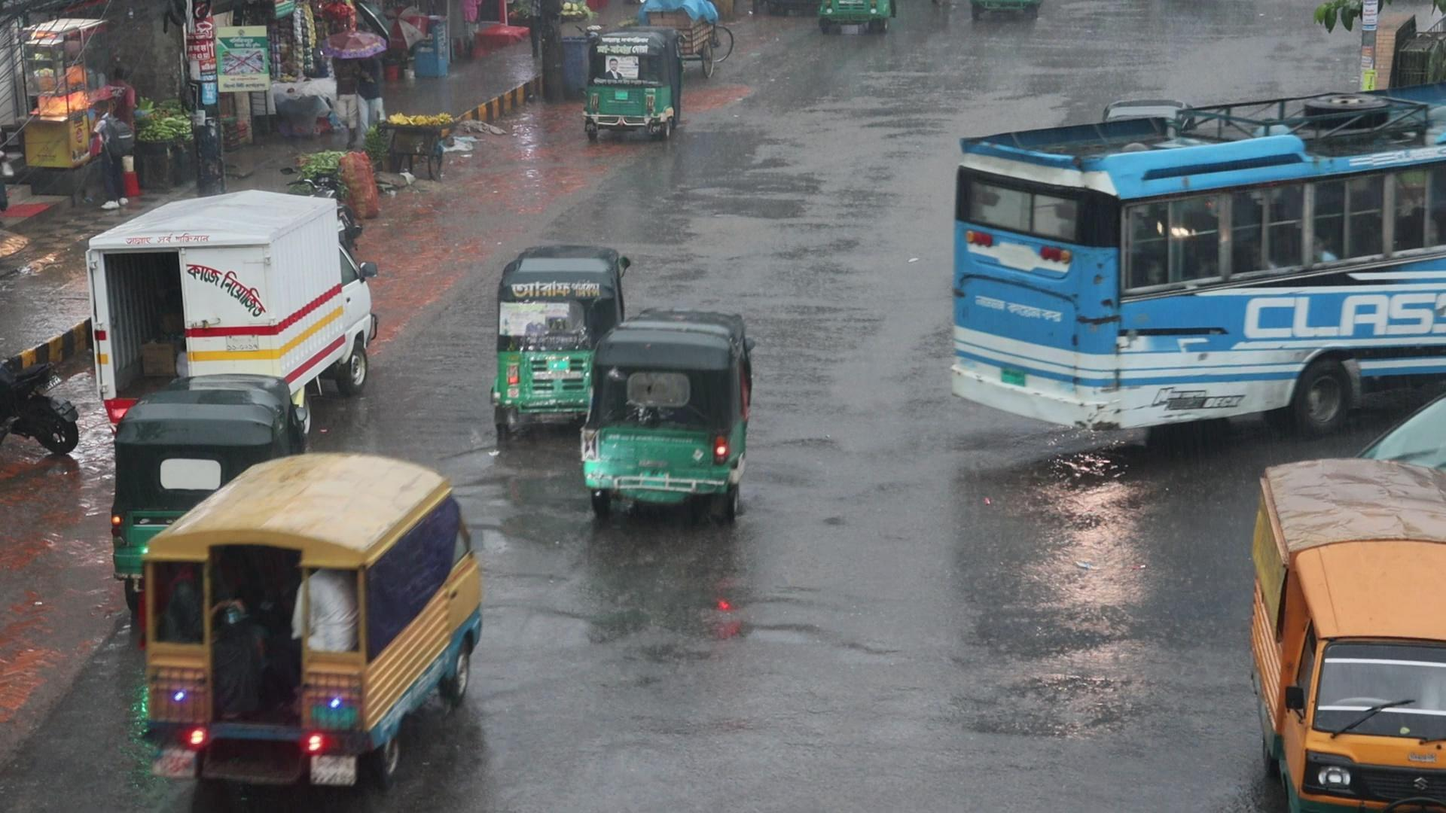Bus: (807, 96, 1446, 501)
Truck: (139, 454, 484, 801), (1237, 451, 1446, 813)
